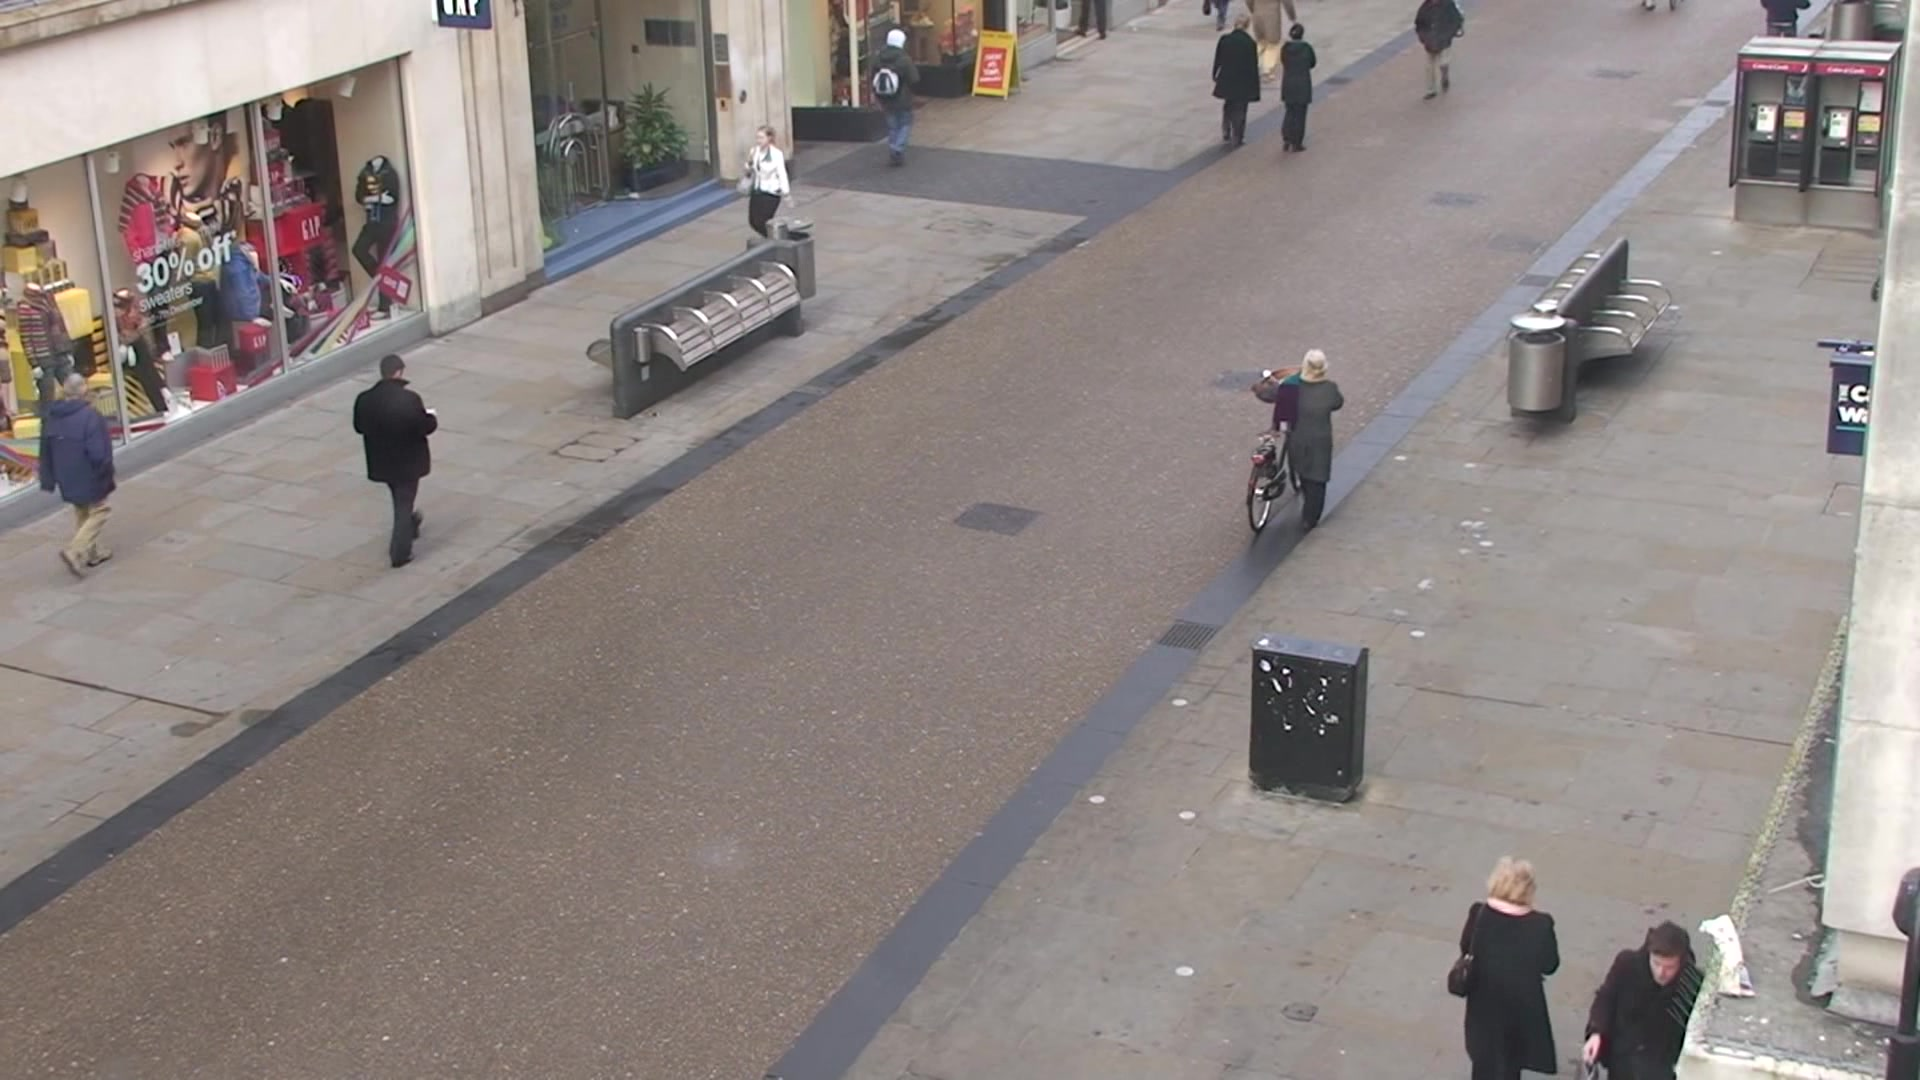person: (354, 353, 438, 566), (37, 374, 120, 574), (1250, 348, 1343, 526), (866, 29, 920, 171), (1210, 16, 1263, 151), (737, 124, 792, 236), (1277, 25, 1316, 157)
